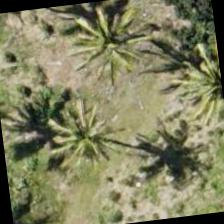Kelapa_Sawit: (53, 0, 153, 85), (161, 29, 223, 126)
